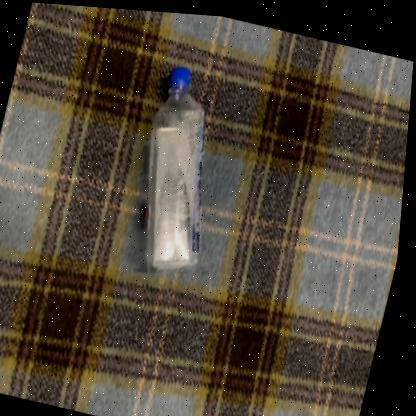Plastic: (149, 63, 205, 269)
